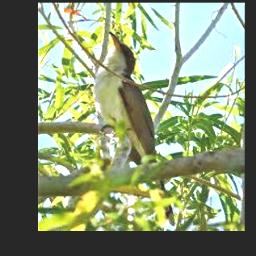Cuckoo: (94, 32, 176, 226)
